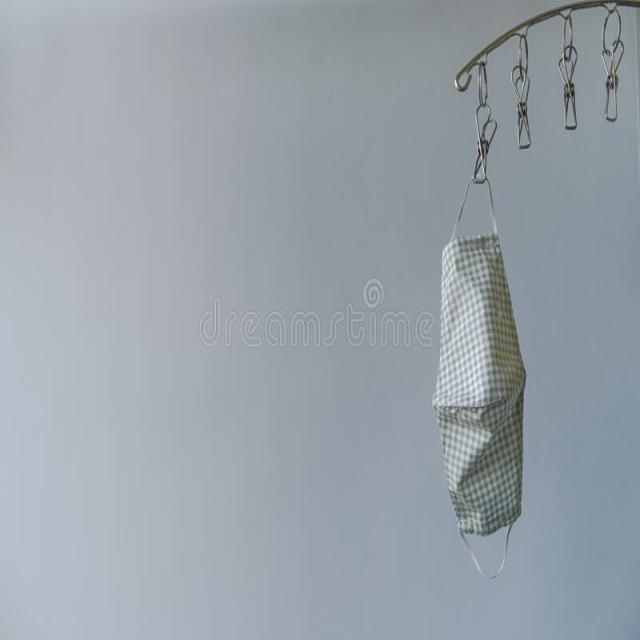clothes: (426, 210, 536, 585)
